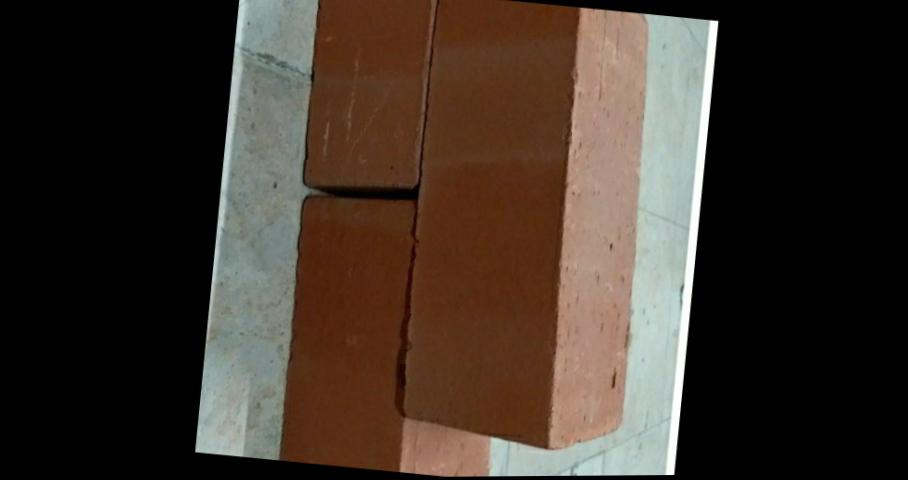brick: (390, 0, 595, 452), (274, 189, 429, 473), (296, 0, 436, 200)
